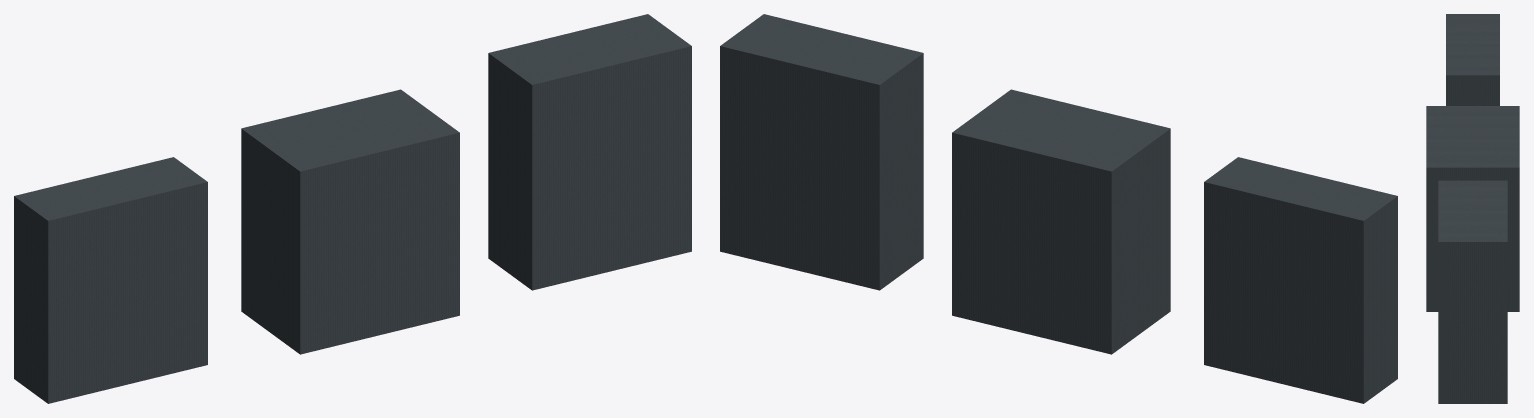
Rendered from PZ_Market_Optional_UCX_Collision.glb.
3 renders of one model, left to right at view 1: azimuth 30°, elevation 25°; view 2: azimuth 150°, elevation 25°; view 3: azimuth 270°, elevation 25°, orthographic. The views are drawn at different scales.
Visible parts, largest first — view 1: UCX_AISLE_MAIN_00, UCX_FRIDGE_MAIN_00, UCX_SHELF_MAIN_00; view 2: UCX_AISLE_MAIN_00, UCX_FRIDGE_MAIN_00, UCX_SHELF_MAIN_00; view 3: UCX_FRIDGE_MAIN_00, UCX_AISLE_MAIN_00, UCX_SHELF_MAIN_00.
Part boxes in pixels (bbox=[...]): UCX_AISLE_MAIN_00: bbox=[241, 89, 459, 354]; UCX_FRIDGE_MAIN_00: bbox=[488, 14, 691, 290]; UCX_SHELF_MAIN_00: bbox=[14, 157, 207, 403]; UCX_AISLE_MAIN_00: bbox=[952, 89, 1170, 354]; UCX_FRIDGE_MAIN_00: bbox=[720, 14, 923, 290]; UCX_SHELF_MAIN_00: bbox=[1204, 157, 1397, 403]; UCX_FRIDGE_MAIN_00: bbox=[1438, 180, 1507, 403]; UCX_AISLE_MAIN_00: bbox=[1426, 106, 1519, 311]; UCX_SHELF_MAIN_00: bbox=[1446, 14, 1499, 105].
Bounding box in the file's own units: 8 × 2.46 × 1.28.
Materials: 1 (1 with a texture image).
